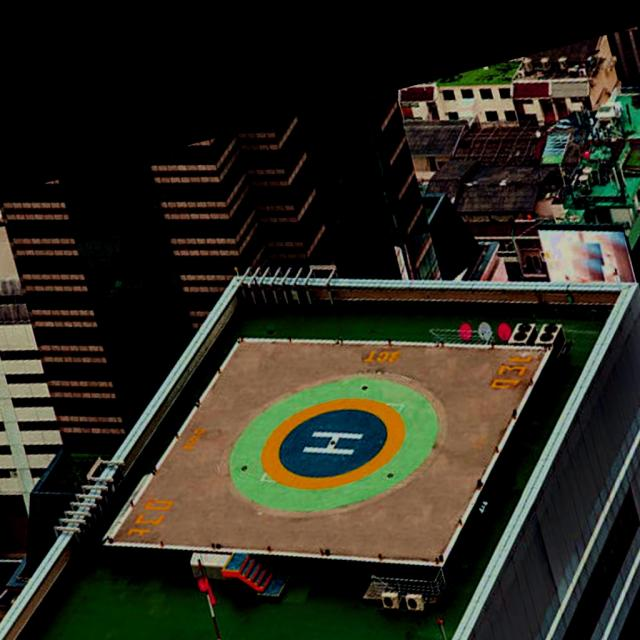helipad: (258, 394, 406, 491)
